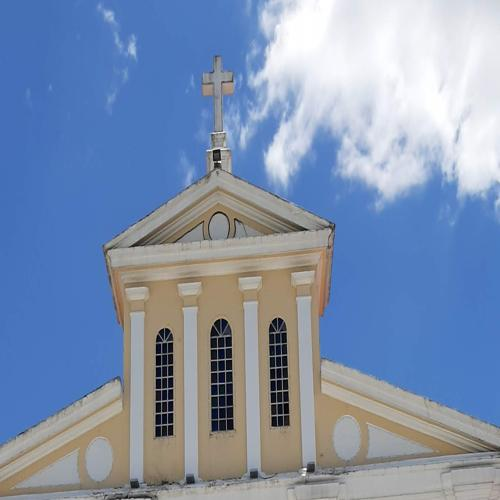Manaoag Church: (3, 24, 500, 500)
